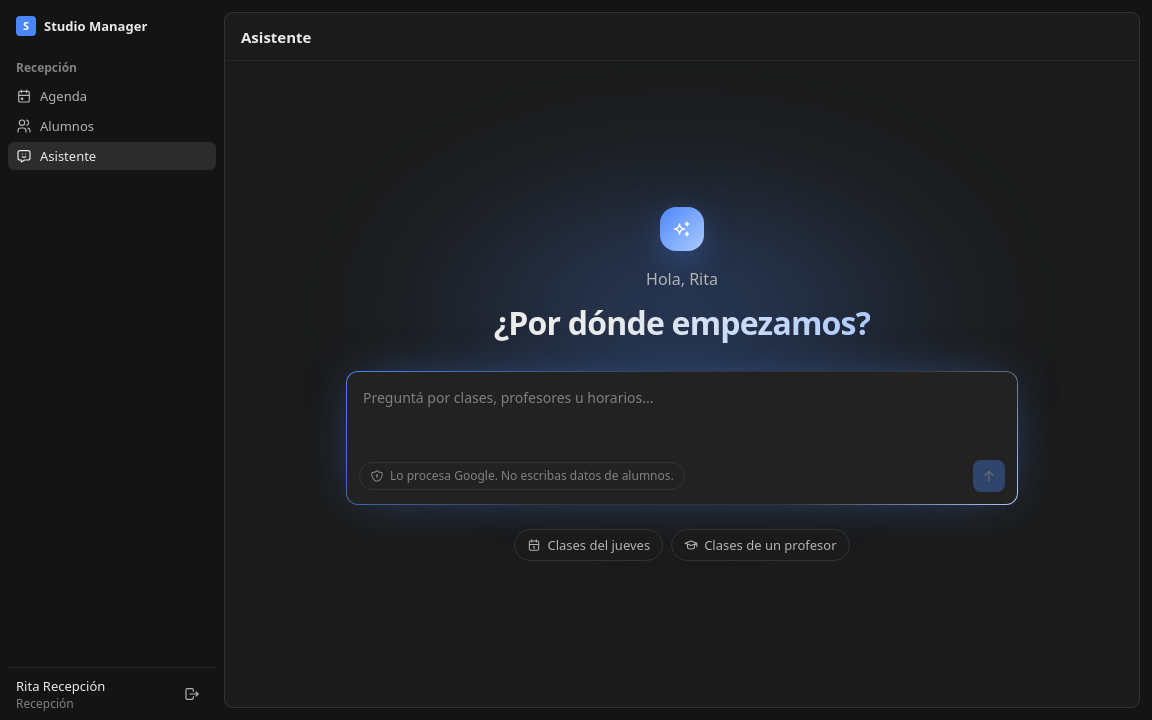
Test: /asistente › enviar un mensaje lo muestra con la respuesta y manda el historial vacío
Type "¿Qué clases hay mañana?" into the text box named "Mensaje para el asistente".
click(682, 414); type("¿Qué clases hay mañana?")  # box [347,372,1017,456]
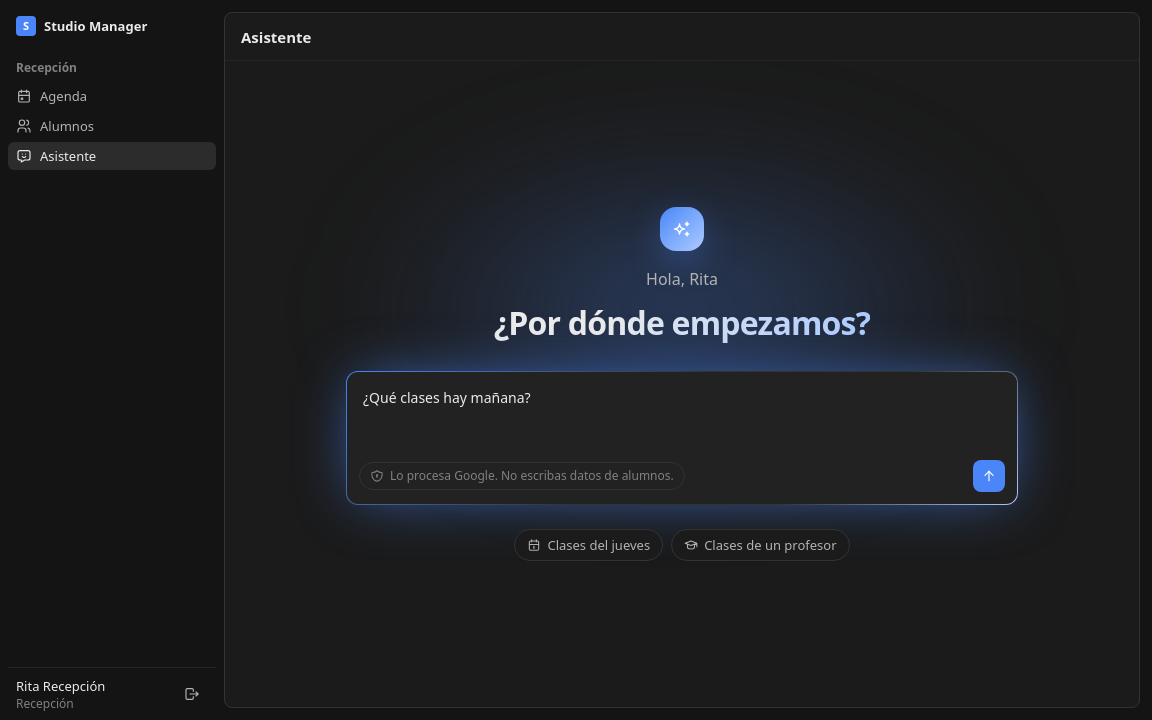
Click the button named "Enviar".
click(989, 476)  # box [973,460,1005,492]
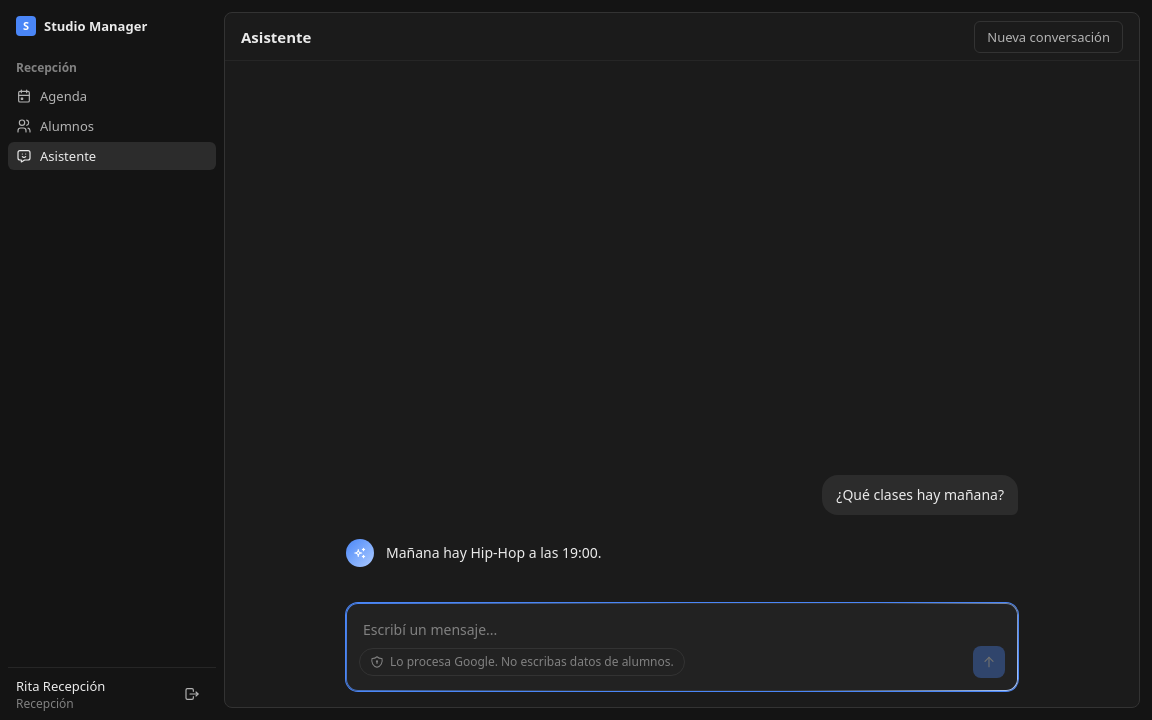
Now the text "Mañana hay Hip-Hop a las 19:00." is shown, box [386,543,602,562]
Now the text "¿Qué clases hay mañana?" is shown, box [822,475,1018,515]
Now the text box named "Mensaje para el asistente" is empty, box [347,604,1017,642]
